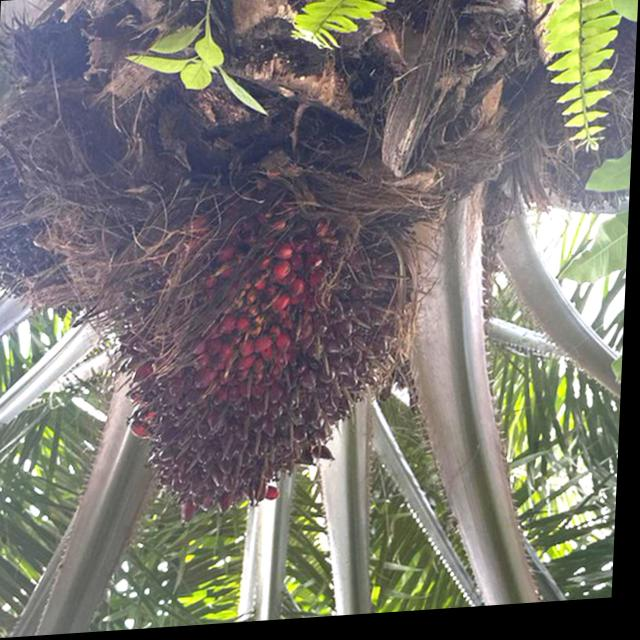ripe: (101, 179, 437, 536)
